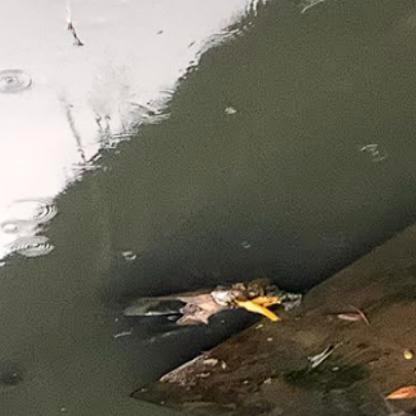Trash: (115, 273, 307, 332)
